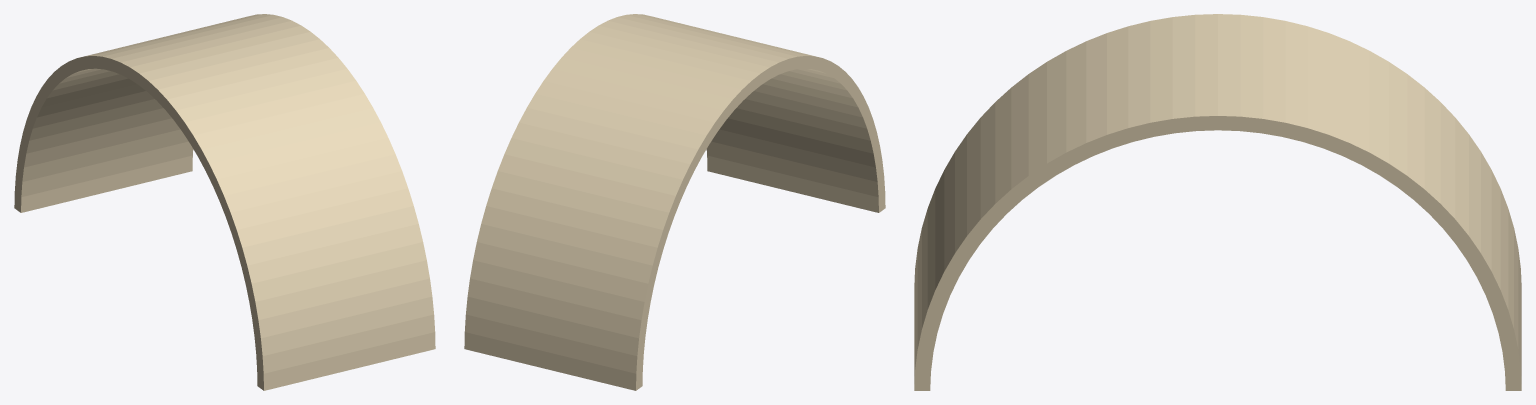
File: upper-bearing.glb
3 views of the same model, side by side, from view 1: azimuth 30°, elevation 25°; view 2: azimuth 150°, elevation 25°; view 3: azimuth 270°, elevation 25° (orthographic). The views are drawn at different scales.
Parts seen in each view (by area): view 1: upper-bearing; view 2: upper-bearing; view 3: upper-bearing.
Boxes of the visible parts, x1,y1,x2,y2 form: upper-bearing: [14, 14, 435, 390]; upper-bearing: [464, 14, 885, 390]; upper-bearing: [914, 14, 1521, 390].
Size of the model in its own units: 0.0226 by 0.0285 by 0.057.
